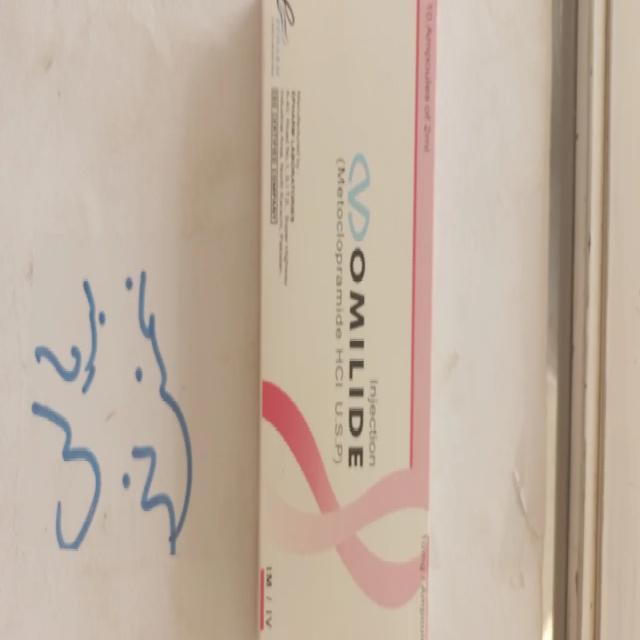drug-name: (349, 152, 368, 468)
